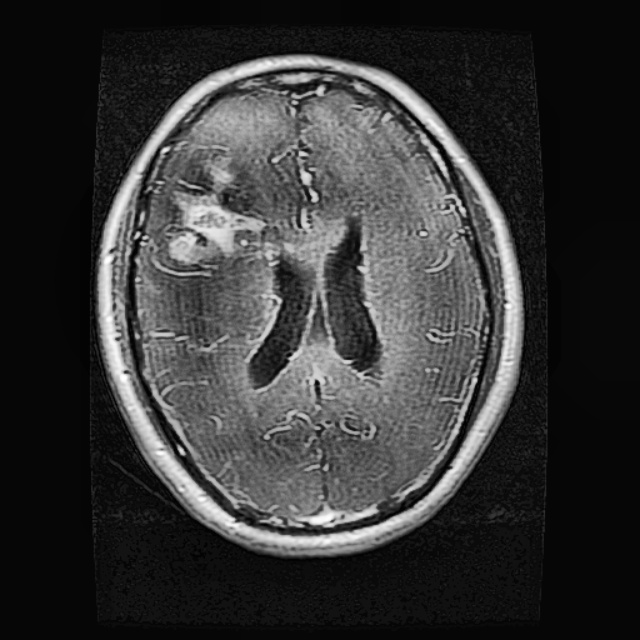Pituitary: (149, 144, 269, 287)
